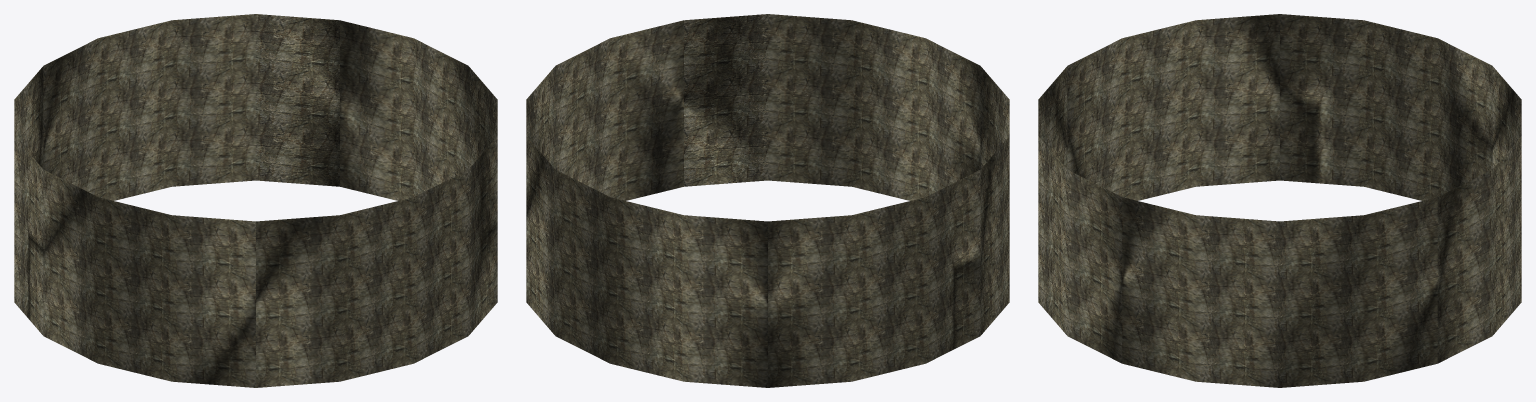
3 renders of one model, left to right at view 1: azimuth 30°, elevation 25°; view 2: azimuth 150°, elevation 25°; view 3: azimuth 270°, elevation 25°, orthographic.
Parts seen in each view (by area): view 1: mesh0; view 2: mesh0; view 3: mesh0.
Boxes of the visible parts, box(x1,y1,x2,y2) form: mesh0: box(14, 14, 497, 387); mesh0: box(526, 14, 1009, 387); mesh0: box(1038, 14, 1521, 387).
Bounding box in the file's own units: 2912 × 1090 × 2868.
